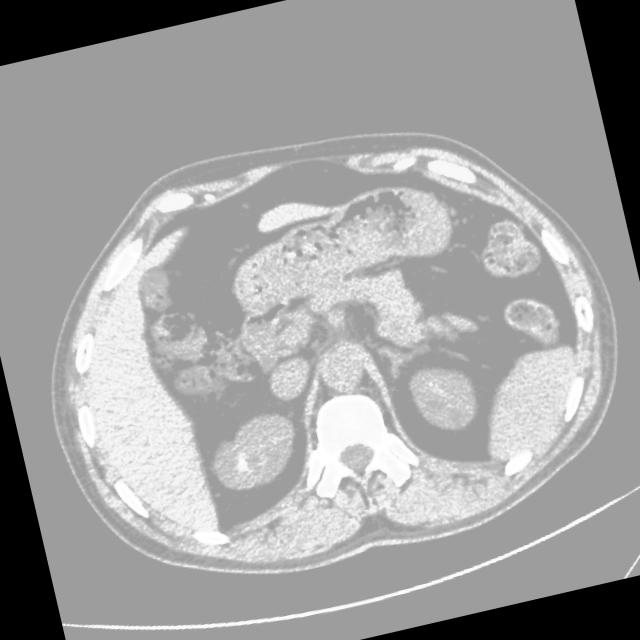STONE: (124, 231, 482, 507)
